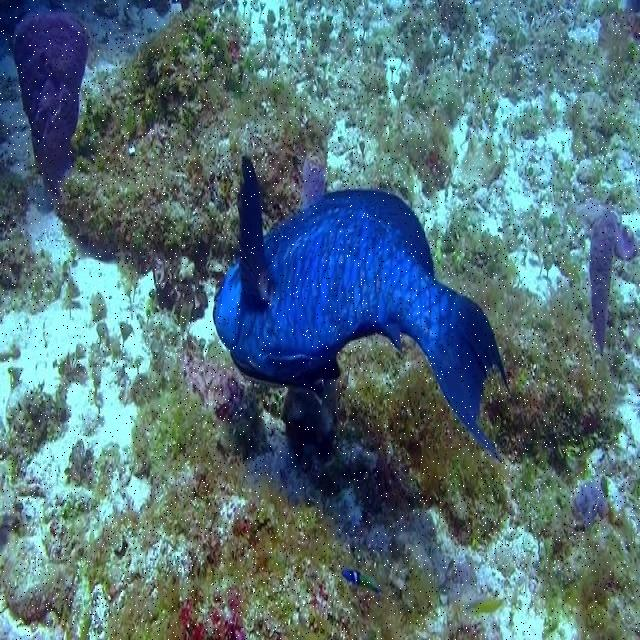aquatic plants: (0, 0, 639, 639)
fish: (212, 156, 511, 468)
reefs: (12, 7, 90, 200), (564, 201, 638, 347)
